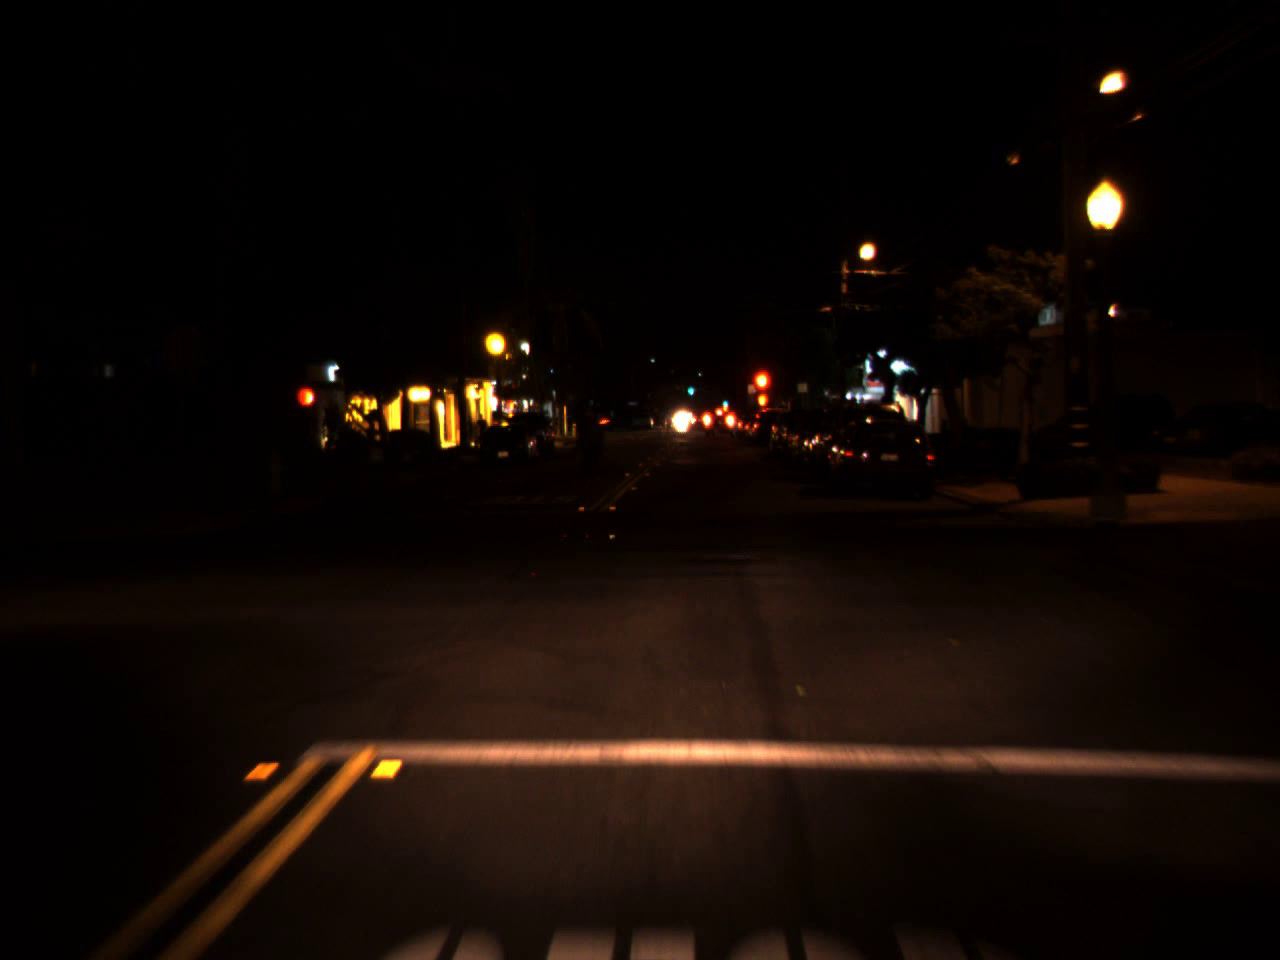go: (685, 380, 695, 395), (721, 395, 728, 407)
stop: (750, 367, 774, 415)
